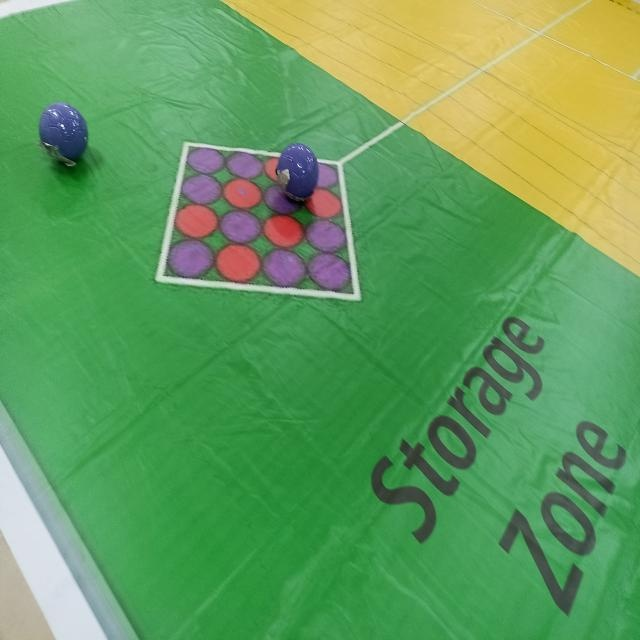purple_ball: (41, 102, 86, 164), (278, 144, 318, 202)
